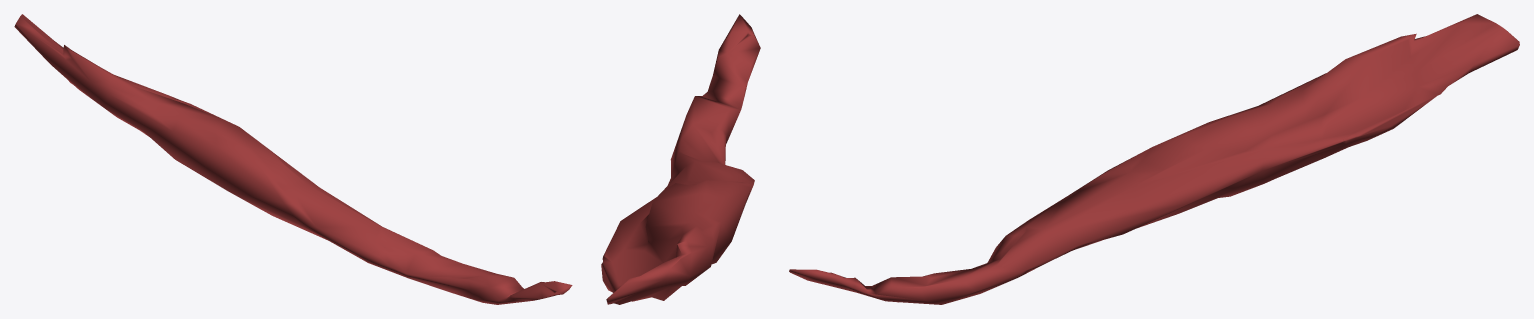
The model's file is flexor-digiti-minimi-of-foot-l.glb.
3 renders of one model, left to right at view 1: azimuth 30°, elevation 25°; view 2: azimuth 150°, elevation 25°; view 3: azimuth 270°, elevation 25°, orthographic. The views are drawn at different scales.
Visible parts, largest first — view 1: Flexor digiti minimi of foot.l; view 2: Flexor digiti minimi of foot.l; view 3: Flexor digiti minimi of foot.l.
Part boxes in pixels (x1,y1,x2,y2): Flexor digiti minimi of foot.l: (14, 14, 572, 304); Flexor digiti minimi of foot.l: (601, 14, 760, 304); Flexor digiti minimi of foot.l: (789, 14, 1519, 304).
Bounding box in the file's own units: 0.033 × 0.0184 × 0.0727.
